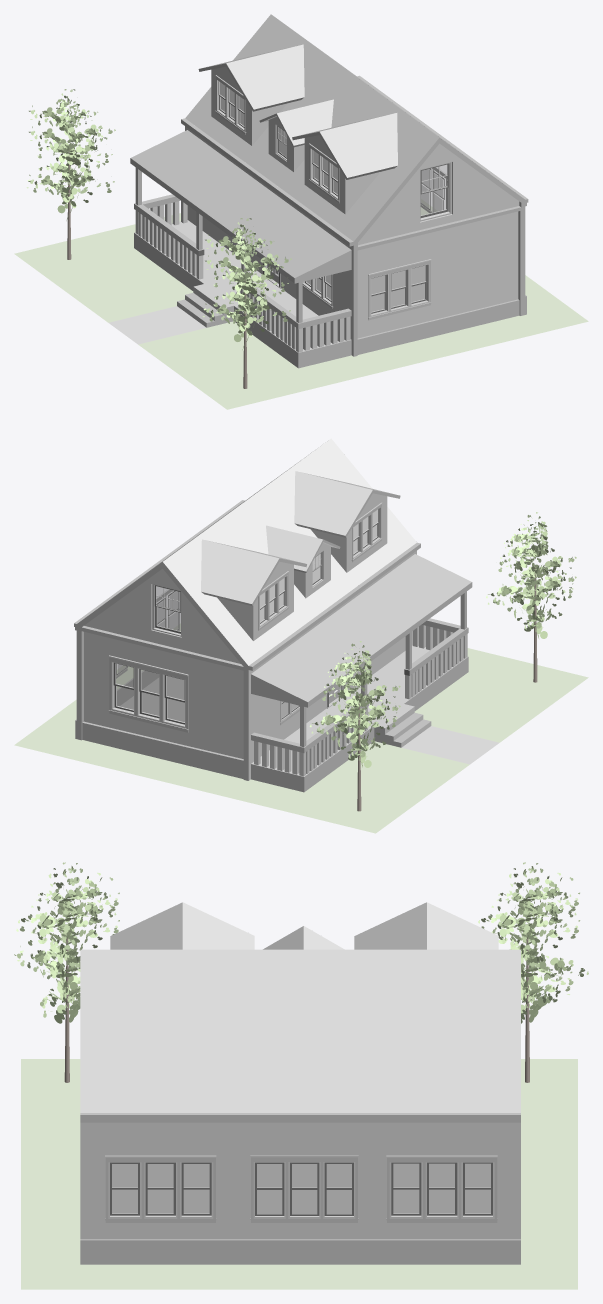
Rendered from sp-prop-sf-2L-62ft.glb.
The picture shows the model from 3 angles, top to bottom: view 1: azimuth 30°, elevation 25°; view 2: azimuth 150°, elevation 25°; view 3: azimuth 270°, elevation 25°; orthographic projection. The views are drawn at different scales.
Visible parts, largest first — view 1: 3DGeom-2, 3DGeom-1, 3DGeom-73, 3DGeom-3, 3DGeom-4, 3DGeom-1187, 3DGeom-12, 3DGeom-5, 3DGeom-629; view 2: 3DGeom-2, 3DGeom-1, 3DGeom-3, 3DGeom-73, 3DGeom-1187, 3DGeom-12, 3DGeom-5, 3DGeom-629; view 3: 3DGeom-4, 3DGeom-73, 3DGeom-2, 3DGeom-1, 3DGeom-12, 3DGeom-1187, 3DGeom-3, 3DGeom-5, 3DGeom-629.
Boxes of the visible parts, <box> form: 3DGeom-2: <box>134,66,519,356</box>; 3DGeom-1: <box>130,63,528,368</box>; 3DGeom-73: <box>14,199,588,409</box>; 3DGeom-3: <box>108,14,439,344</box>; 3DGeom-4: <box>226,29,508,187</box>; 3DGeom-1187: <box>26,89,291,349</box>; 3DGeom-12: <box>220,82,447,311</box>; 3DGeom-5: <box>198,81,449,313</box>; 3DGeom-629: <box>67,149,247,388</box>; 3DGeom-2: <box>84,493,467,780</box>; 3DGeom-1: <box>74,490,472,792</box>; 3DGeom-3: <box>163,438,499,764</box>; 3DGeom-73: <box>14,623,588,833</box>; 3DGeom-1187: <box>309,512,576,767</box>; 3DGeom-12: <box>116,510,377,721</box>; 3DGeom-5: <box>113,509,409,724</box>; 3DGeom-629: <box>357,567,537,811</box>; 3DGeom-4: <box>80,902,520,1112</box>; 3DGeom-73: <box>21,1059,577,1289</box>; 3DGeom-2: <box>80,1122,520,1239</box>; 3DGeom-1: <box>80,1113,520,1264</box>; 3DGeom-12: <box>112,1163,490,1213</box>; 3DGeom-1187: <box>14,862,588,1023</box>; 3DGeom-3: <box>182,902,498,949</box>; 3DGeom-5: <box>110,1162,492,1215</box>; 3DGeom-629: <box>64,933,529,1082</box>.
Bounding box in the file's own units: 18.44 × 9.66 × 19.42.
